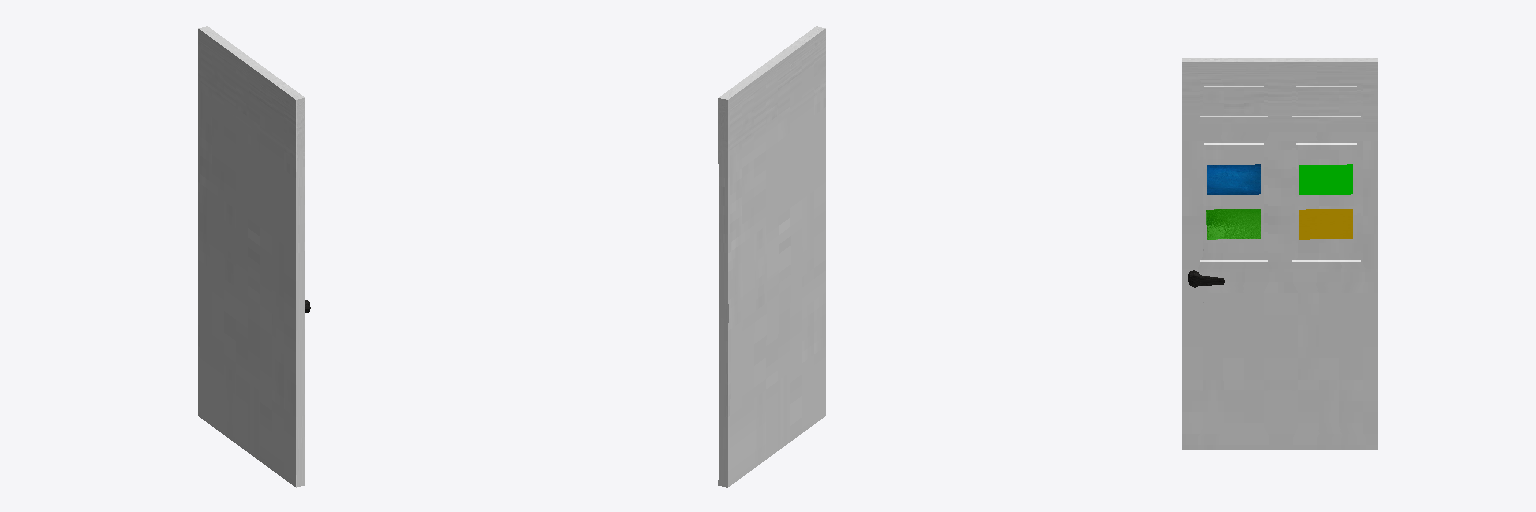
3 views of the same model, side by side, from view 1: azimuth 30°, elevation 25°; view 2: azimuth 150°, elevation 25°; view 3: azimuth 270°, elevation 25° (orthographic).
Parts seen in each view (by area): view 1: Door_Cube.014; view 2: Door_Cube.014; view 3: Door_Cube.014, Green_Plane.004, Blue_Plane.005, Red_Plane.002, Yellow_Plane.003.
Boxes of the visible parts, x1=… form: Door_Cube.014: x1=198, y1=26, x2=304, y2=487; Door_Cube.014: x1=718, y1=26, x2=825, y2=487; Door_Cube.014: x1=1182, y1=58, x2=1377, y2=449; Green_Plane.004: x1=1206, y1=209, x2=1260, y2=239; Blue_Plane.005: x1=1207, y1=164, x2=1260, y2=194; Red_Plane.002: x1=1299, y1=164, x2=1352, y2=194; Yellow_Plane.003: x1=1299, y1=209, x2=1352, y2=239.
Size of the model in its own units: 0.0864 by 1.71 by 0.7822.
6 materials, 5 textured.